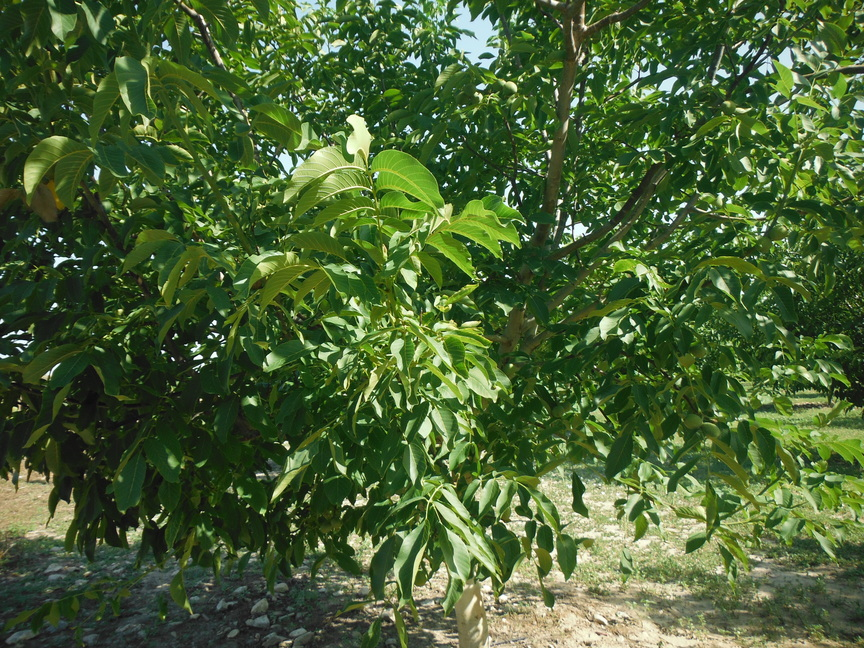walnut: (680, 409, 706, 432), (718, 95, 740, 118), (753, 233, 775, 255), (767, 222, 791, 242), (699, 420, 723, 439), (410, 565, 429, 589), (689, 341, 710, 361), (498, 499, 514, 525), (501, 79, 522, 97), (548, 402, 567, 421), (461, 78, 479, 97), (454, 89, 472, 107), (490, 72, 507, 91), (469, 88, 486, 106), (318, 521, 335, 536), (560, 397, 574, 415), (323, 503, 337, 521), (330, 515, 346, 530)
